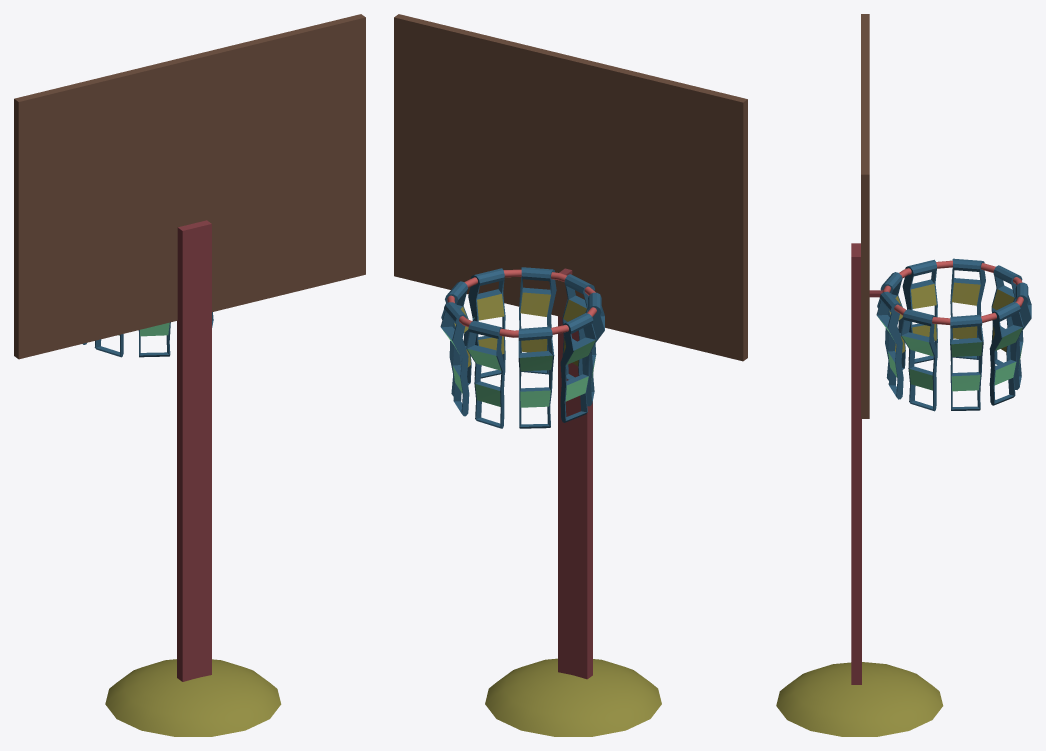
Rendered from basketball_board.fbx.
3 renders of one model, left to right at view 1: azimuth 30°, elevation 25°; view 2: azimuth 150°, elevation 25°; view 3: azimuth 270°, elevation 25°, orthographic. The views are drawn at different scales.
Visible parts, largest first — view 1: board, pillar, base, e2; view 2: board, base, pillar, a1, c2, b1, g2, f2, i2, e2, ring, d2 (+1 smaller); view 3: base, pillar, board, g2, i2, h2, d2, c2, f2, b1, ring, a1 (+1 smaller).
Boxes of the visible parts, x1,y1,x2,y2 form: board: (14, 14, 365, 359); pillar: (177, 220, 211, 681); base: (105, 659, 281, 736); e2: (138, 322, 170, 357); board: (394, 14, 747, 361); base: (485, 658, 661, 736); pillar: (558, 316, 592, 679); a1: (466, 320, 505, 428); c2: (560, 313, 596, 422); b1: (518, 326, 554, 428); g2: (468, 268, 505, 378); f2: (519, 267, 556, 374); i2: (440, 302, 469, 416); e2: (562, 274, 594, 379); ring: (447, 269, 596, 337); d2: (586, 292, 604, 406); base: (776, 662, 943, 736); pillar: (851, 243, 861, 684); board: (861, 14, 869, 418); g2: (900, 309, 937, 411); i2: (989, 302, 1023, 405); h2: (950, 315, 983, 410); d2: (902, 259, 937, 363); c2: (950, 258, 985, 359); f2: (876, 291, 903, 399); b1: (991, 265, 1022, 364); ring: (882, 260, 1023, 324); a1: (1014, 282, 1031, 389).
Bounding box in the file's own units: 70.87 × 125 × 47.61.
